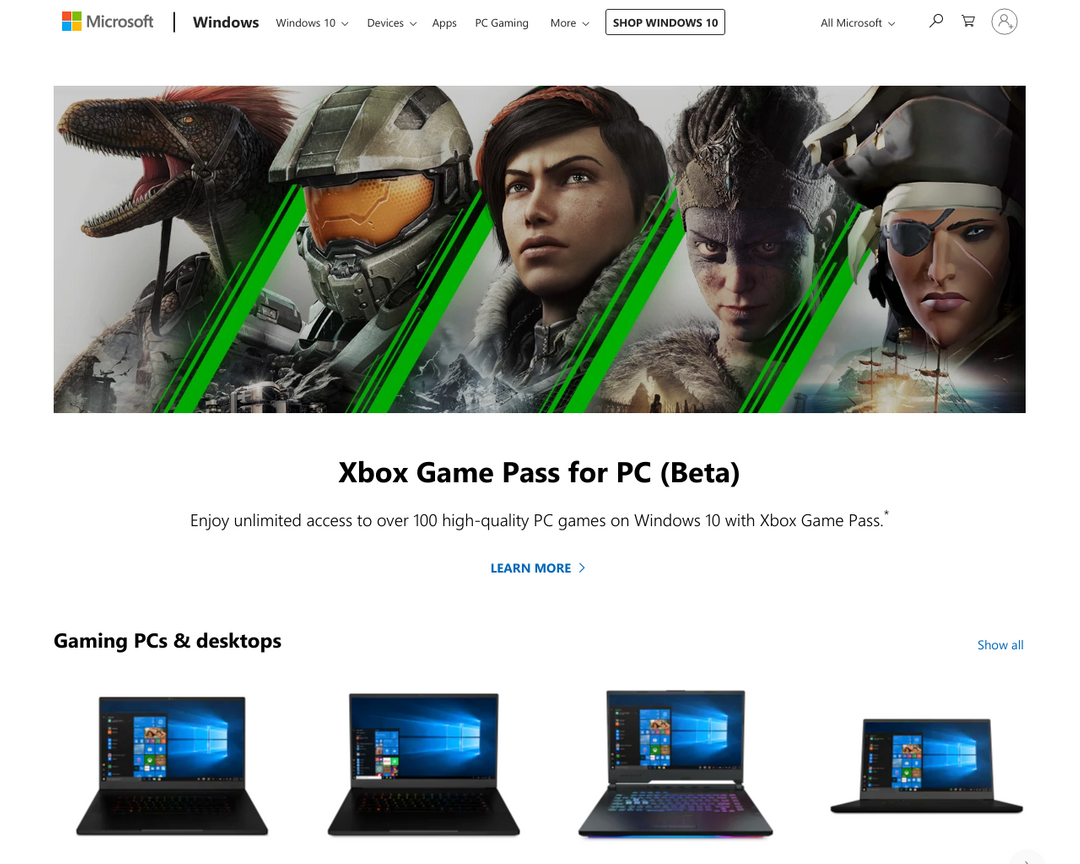Microsoft: (56, 4, 90, 39)
